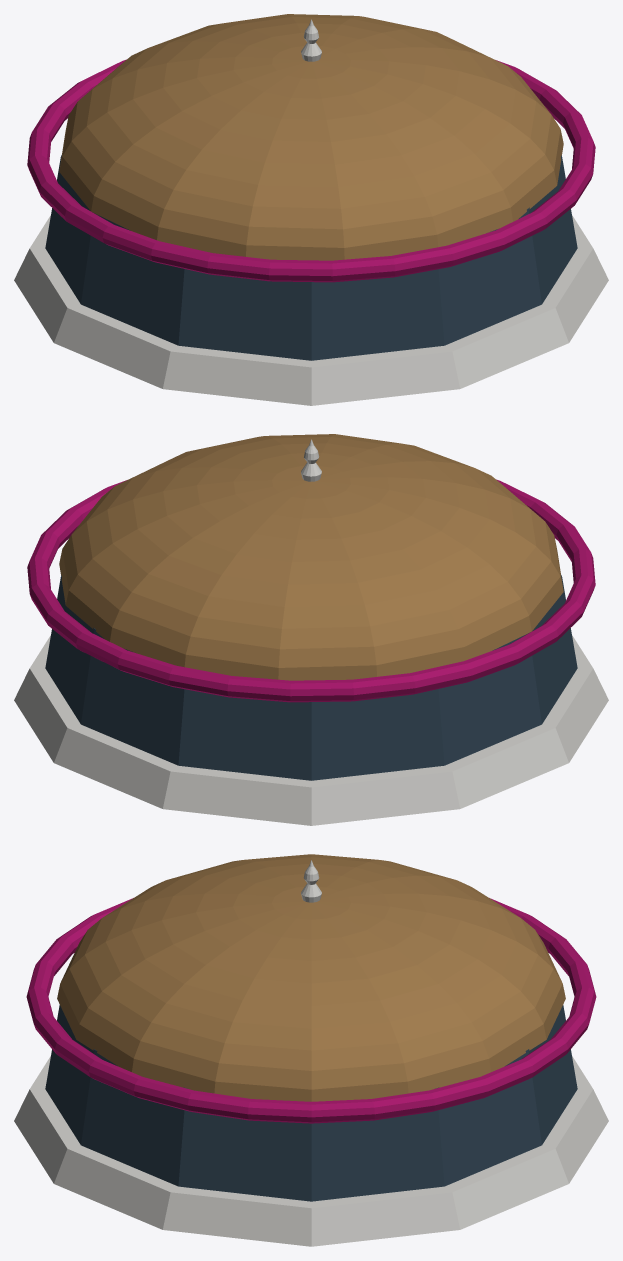
Rendered from aeon-hero.glb.
3 views of the same model, one above another, from view 1: azimuth 30°, elevation 25°; view 2: azimuth 150°, elevation 25°; view 3: azimuth 270°, elevation 25° (orthographic).
Visible parts, largest first — view 1: aeon_hero_ornaments; view 2: aeon_hero_ornaments; view 3: aeon_hero_ornaments.
Part boxes in pixels (x1,y1,x2,y2): aeon_hero_ornaments: (14,14,608,405); aeon_hero_ornaments: (14,434,608,825); aeon_hero_ornaments: (14,854,608,1246).
Bounding box in the file's own units: 15.2 × 7.36 × 15.2.
